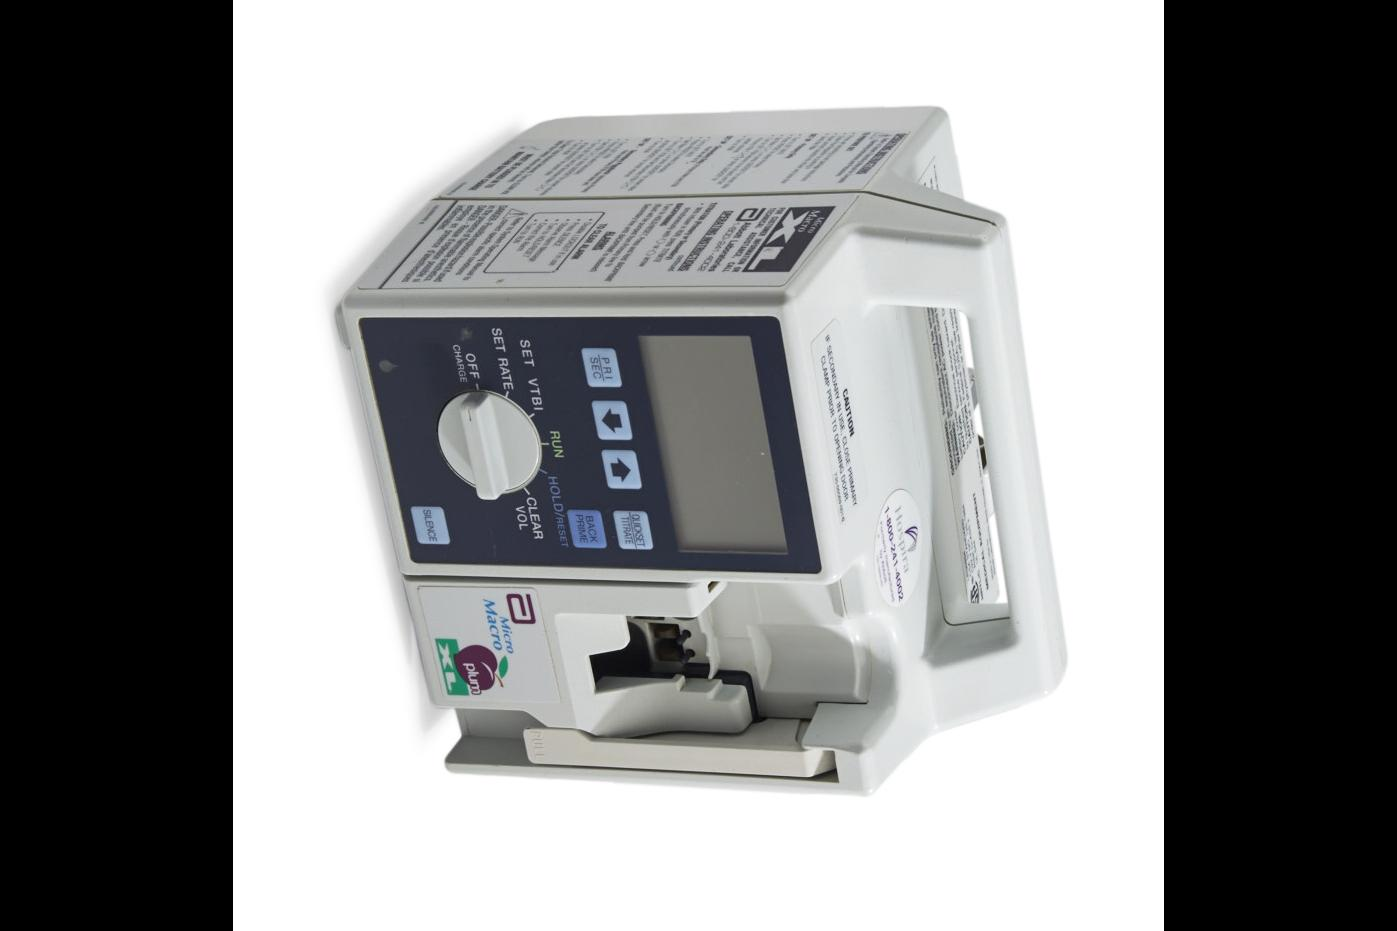plumxl1: (348, 104, 1075, 817)
